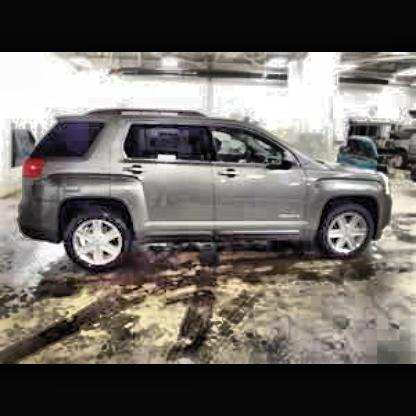GMC Terrain SUV 2012: (15, 104, 394, 270)
